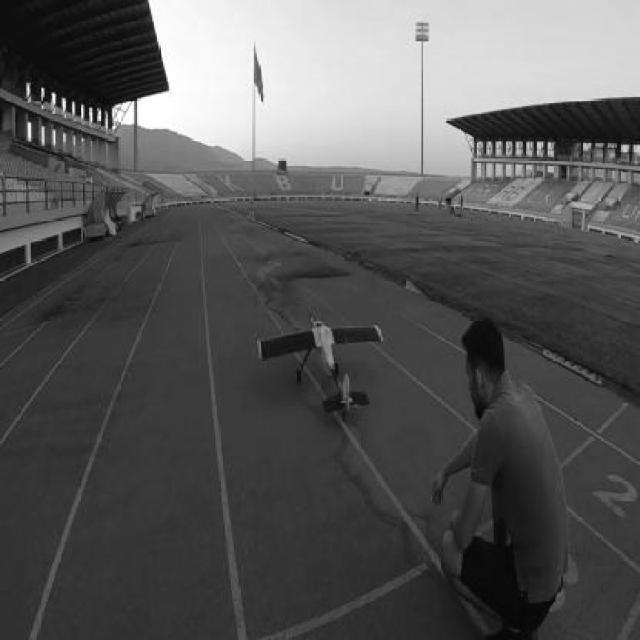iha: (255, 344, 384, 382)
